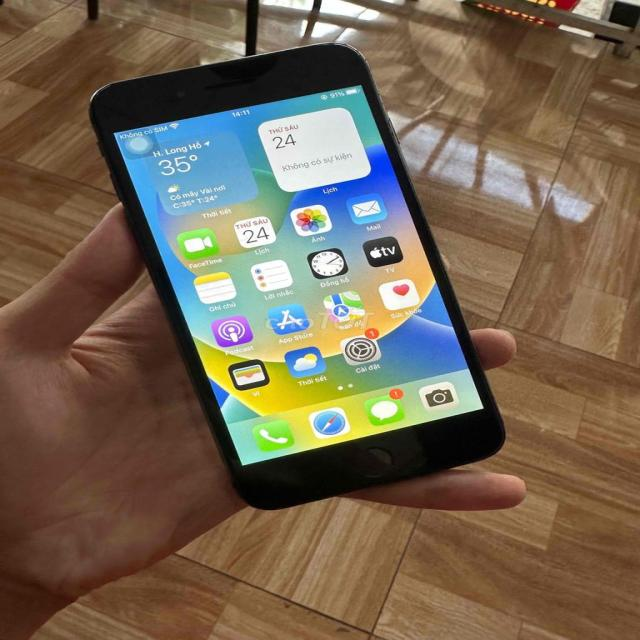scratch: (319, 41, 367, 62), (82, 81, 115, 105)
